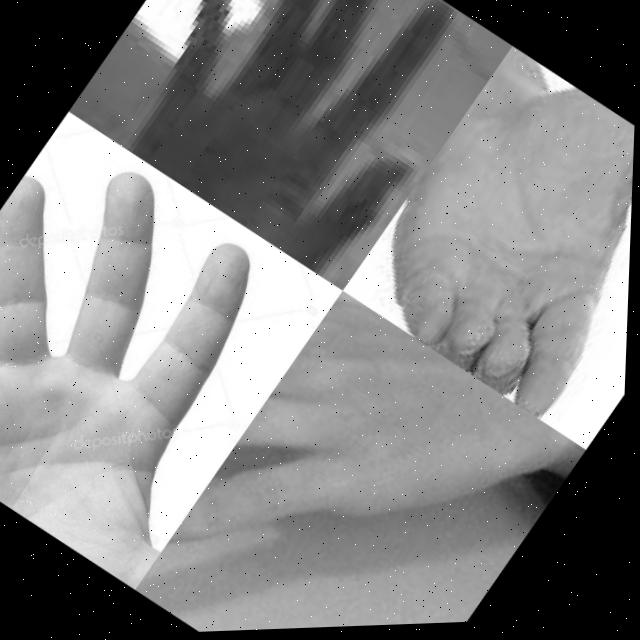hand: (0, 114, 343, 595), (159, 286, 594, 635), (341, 46, 638, 453), (103, 0, 509, 297)
